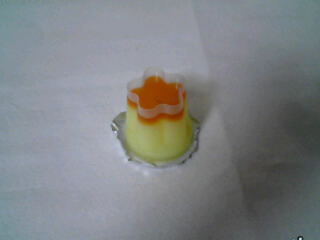001_classes: (103, 62, 220, 171)
